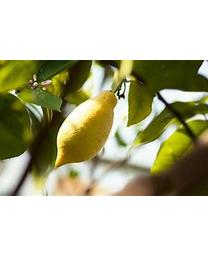lemon: (55, 90, 117, 168)
